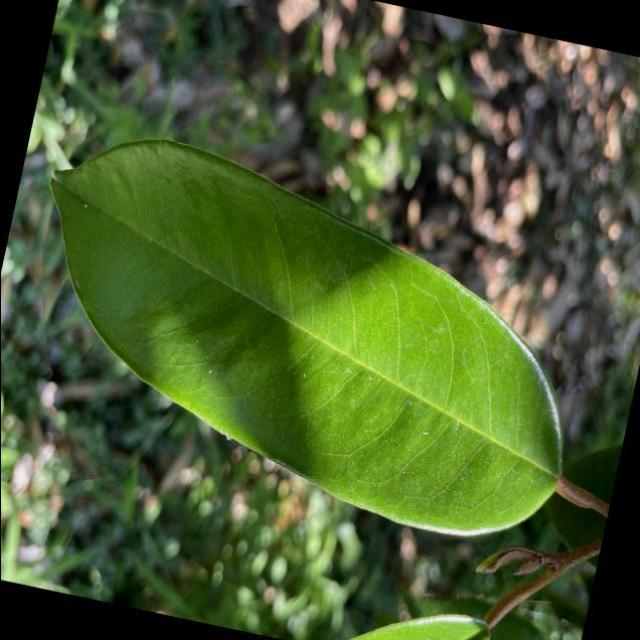No Disease: (0, 110, 630, 564)
